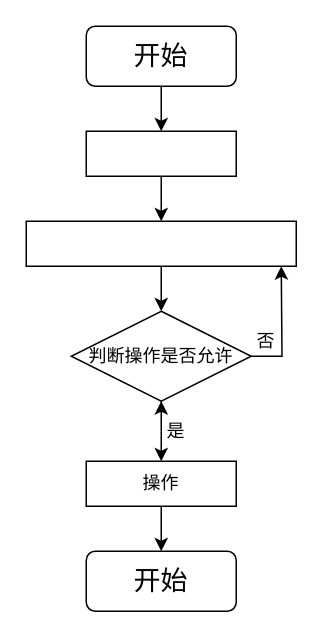
The diagram is 323 pixels wide and 638 high, and some of its shapes have lost their labels. The shapes that lost their labels are listed below. From the top down, each one's box as (x1, y1, x2, y2) in pixels, then its label:
(85, 130, 236, 176): 选择功能
(25, 220, 296, 266): 进入相应功能界面
